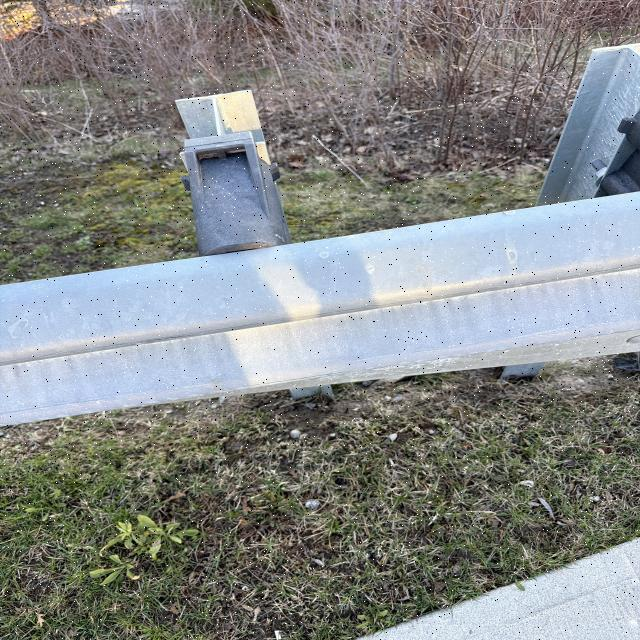Guard rail: (19, 190, 633, 407), (538, 52, 640, 204)
